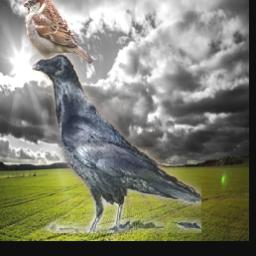Crow: (33, 54, 202, 234)
Sparrow: (24, 0, 94, 71)
